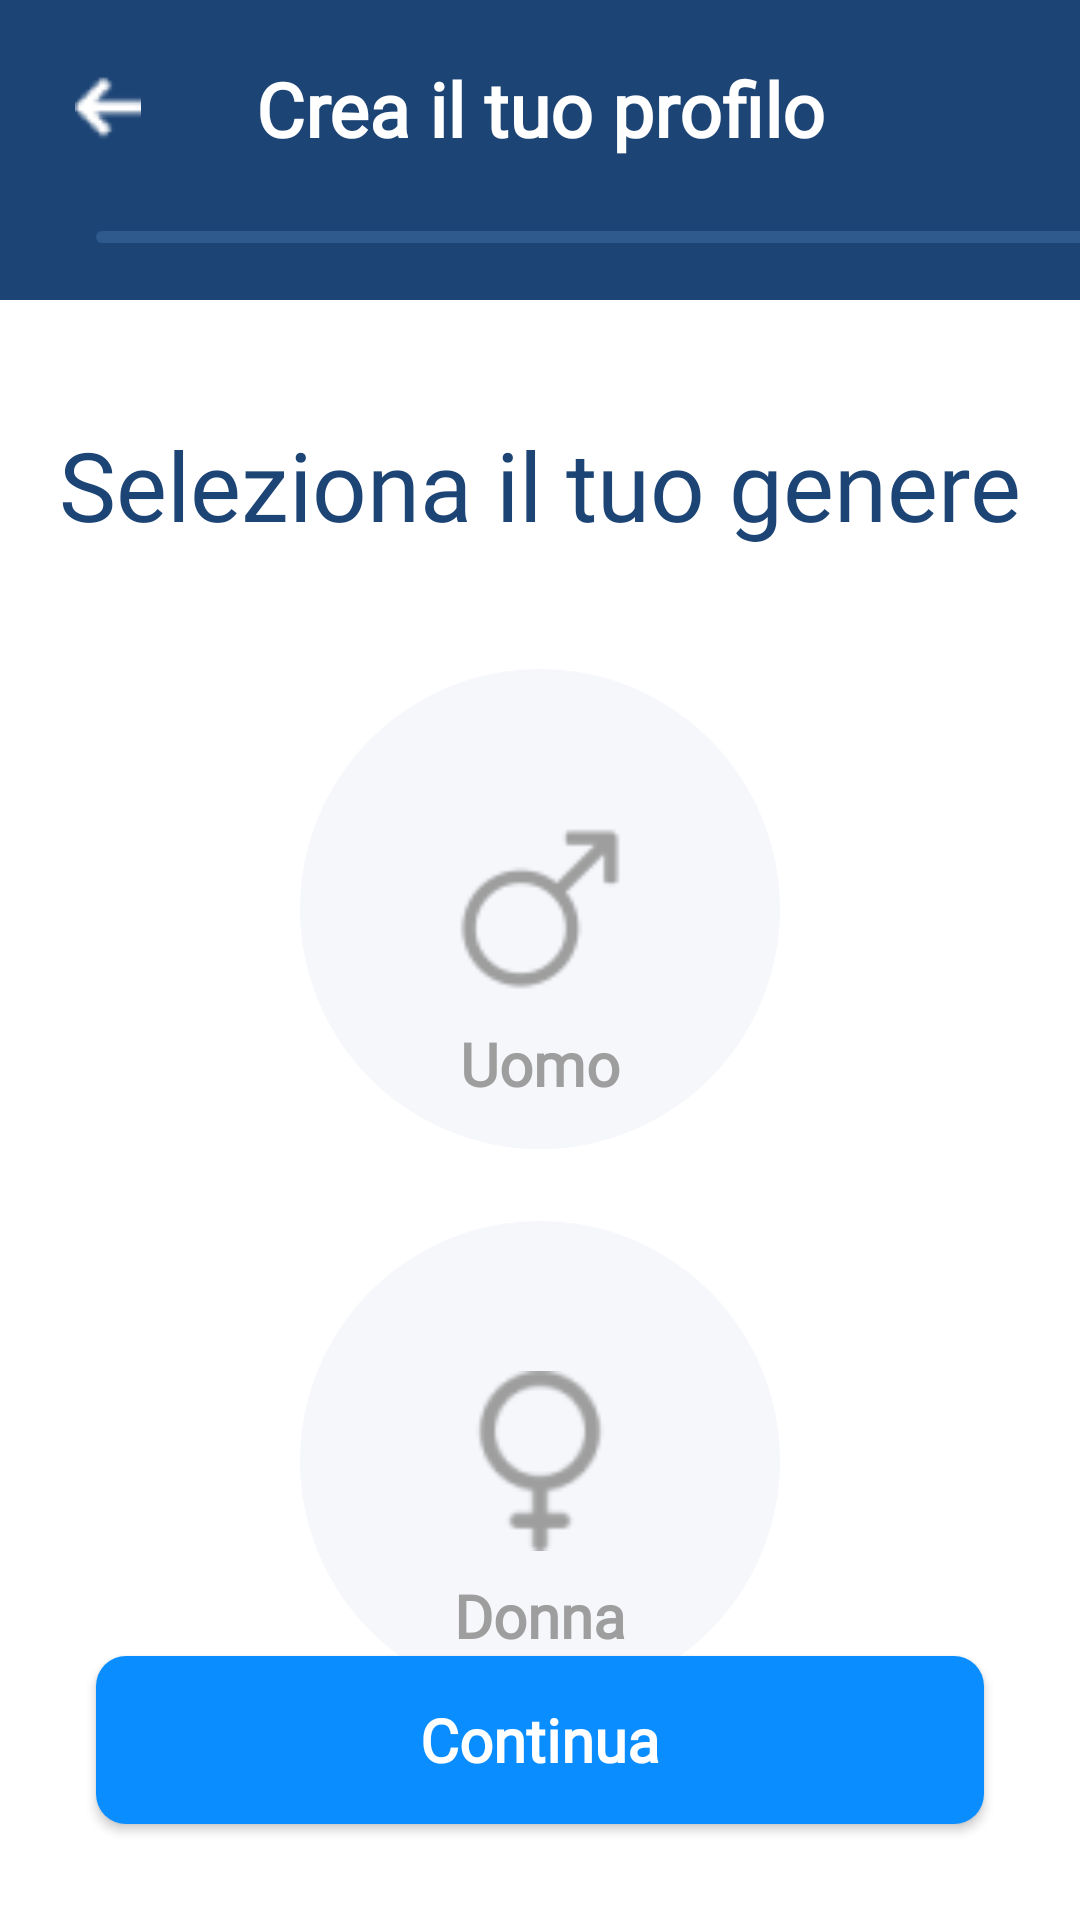

Where to tap for icons on this 1080 × 1920 app screen, as (x,y):
arrow back: (108,107)
female: (540,1461)
male: (540,909)
